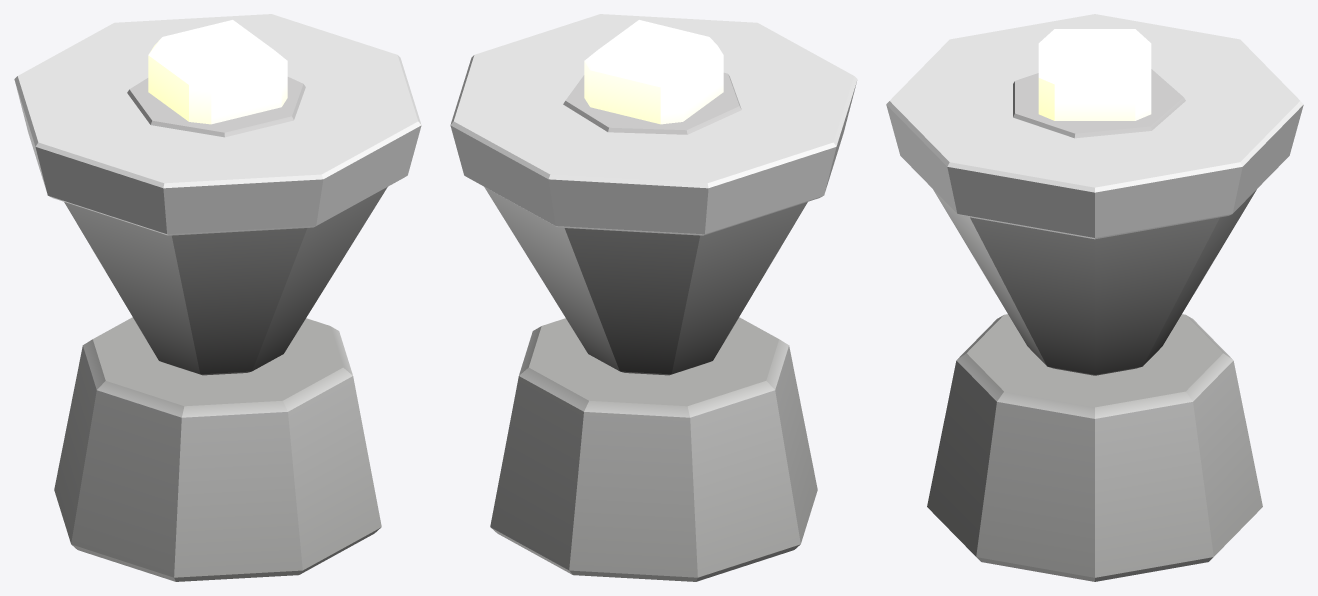
File: sv_prop_iron_brazier.glb
3 renders of one model, left to right at view 1: azimuth 30°, elevation 25°; view 2: azimuth 150°, elevation 25°; view 3: azimuth 270°, elevation 25°, orthographic.
Visible parts, largest first — view 1: sv_prop_iron_brazier; view 2: sv_prop_iron_brazier; view 3: sv_prop_iron_brazier.
Part boxes in pixels (<box>): sv_prop_iron_brazier: <box>14,14,421,581</box>; sv_prop_iron_brazier: <box>450,14,857,581</box>; sv_prop_iron_brazier: <box>886,14,1303,581</box>.
Size of the model in its own units: 1.04 by 1.28 by 1.04.
